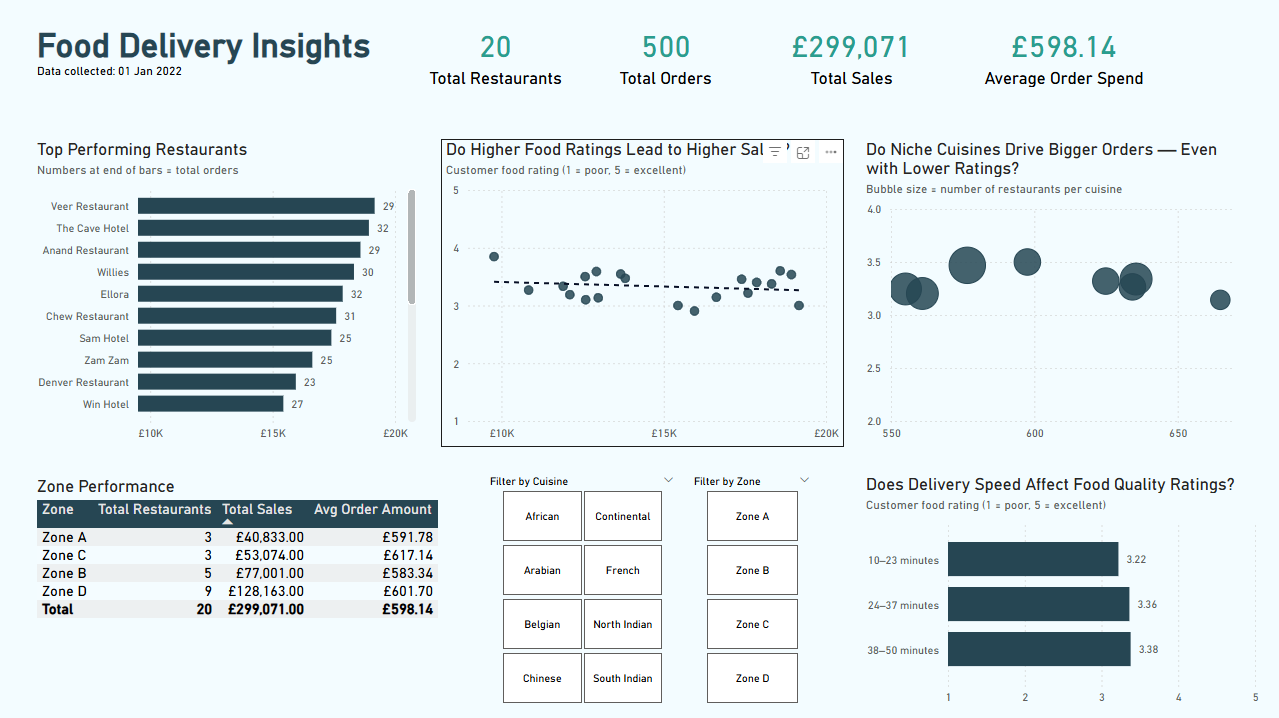

What the dashboard file says about the page in this screenshot:
{"tool":"powerbi","page":{"name":"Page 1","canvas":[1280,720],"ordinal":0},"visuals":[{"type":"card","fields":{"Values":["cleaned_orders.Total Sales"]},"box":[771.9,29.4,158.8,87.5],"z":0},{"type":"donutChart","title":"Average Food Rating per Delivery Speed","fields":{"Category":["cleaned_orders.Delivery Speed Categories"],"Y":["cleaned_orders.Average Food Rating"]},"box":[851,472,407,240],"z":1000},{"type":"slicer","fields":{"Values":["cleaned_restaurants.cuisine"]},"box":[21.2,472.5,208.8,240],"z":2000},{"type":"card","fields":{"Values":["cleaned_orders.Total Restaurants"]},"box":[423.8,36.2,143.8,73.8],"z":3000},{"type":"textbox","box":[39,17,338,115],"z":4000},{"type":"slicer","fields":{"Values":["cleaned_restaurants.zone"]},"box":[230,472.5,140,240],"z":5000},{"type":"card","fields":{"Values":["cleaned_orders.Total Orders"]},"box":[613.8,33.8,104.4,76.2],"z":6000},{"type":"scatterChart","title":"Average Customer Food Rating & Total Sales per Restaurant","fields":{"X":["cleaned_orders.Total Sales"],"Y":["cleaned_orders.Average Food Rating (0-5)"],"Category":["cleaned_restaurants.restaurant_name"]},"box":[448,139,403,308],"z":7000},{"type":"card","fields":{"Values":["cleaned_orders.Average Order Spend"]},"box":[966.2,34.4,194.4,76.9],"z":8000},{"type":"pivotTable","title":"Zone Information","fields":{"Rows":["cleaned_restaurants.zone"],"Values":["CountNonNull(cleaned_restaurants.restaurant_name)","Sum(cleaned_orders.order_amount)","Avg(cleaned_orders.order_amount)"]},"box":[448,472,436,231],"z":9000},{"type":"clusteredBarChart","title":"Top Restaurants by Total Sales & Orders","fields":{"Category":["cleaned_restaurants.restaurant_name"],"Y":["cleaned_orders.Total Sales (£)"]},"box":[35,139,389,308],"z":10000},{"type":"scatterChart","title":"Average Customer Food Rating & Average Order Spend per Cuisine","fields":{"X":["cleaned_orders.Average Order Spend"],"Category":["cleaned_restaurants.cuisine"],"Size":["cleaned_orders.Total Restaurants"],"Y":["cleaned_orders.Average Food Rating (0-5)"]},"box":[869,139,389,308],"z":11000}]}

Visuals, with their boxes in screenshot pixels (x1, y1, x2, y2), scaled from the page's 1280x720 canvas onto the 1279x718 screenshot:
card - cleaned_orders.Total Sales: {"left": 771, "top": 29, "right": 930, "bottom": 117}
"Average Food Rating per Delivery Speed" donutChart: {"left": 850, "top": 471, "right": 1257, "bottom": 710}
slicer - cleaned_restaurants.cuisine: {"left": 21, "top": 471, "right": 230, "bottom": 711}
card - cleaned_orders.Total Restaurants: {"left": 423, "top": 36, "right": 567, "bottom": 110}
textbox: {"left": 39, "top": 17, "right": 377, "bottom": 132}
slicer - cleaned_restaurants.zone: {"left": 230, "top": 471, "right": 370, "bottom": 711}
card - cleaned_orders.Total Orders: {"left": 613, "top": 34, "right": 718, "bottom": 110}
"Average Customer Food Rating & Total Sales per Restaurant" scatterChart: {"left": 448, "top": 139, "right": 850, "bottom": 446}
card - cleaned_orders.Average Order Spend: {"left": 965, "top": 34, "right": 1160, "bottom": 111}
"Zone Information" pivotTable: {"left": 448, "top": 471, "right": 883, "bottom": 701}
"Top Restaurants by Total Sales & Orders" clusteredBarChart: {"left": 35, "top": 139, "right": 424, "bottom": 446}
"Average Customer Food Rating & Average Order Spend per Cuisine" scatterChart: {"left": 868, "top": 139, "right": 1257, "bottom": 446}
